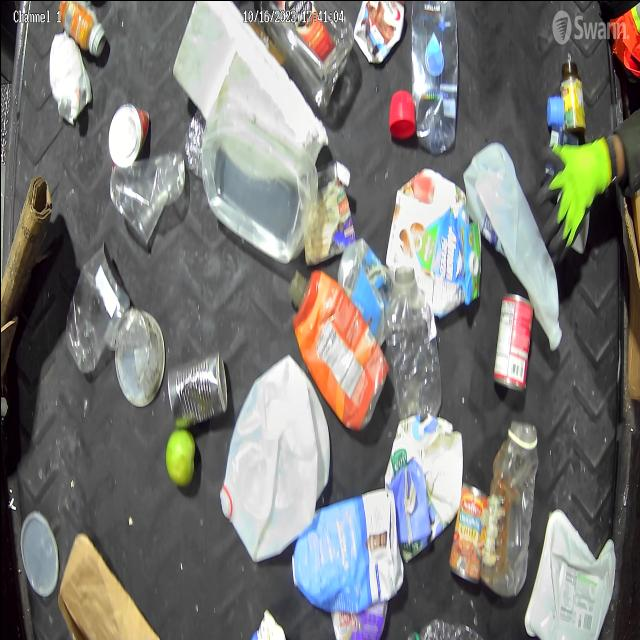can: (99, 86, 163, 178), (161, 350, 232, 428), (492, 290, 534, 410)
milk_jug: (462, 132, 566, 357), (218, 352, 328, 548), (528, 507, 616, 640)
non_white_jug: (286, 266, 392, 436), (289, 494, 410, 616)
plastic_bottle: (387, 266, 444, 432)
